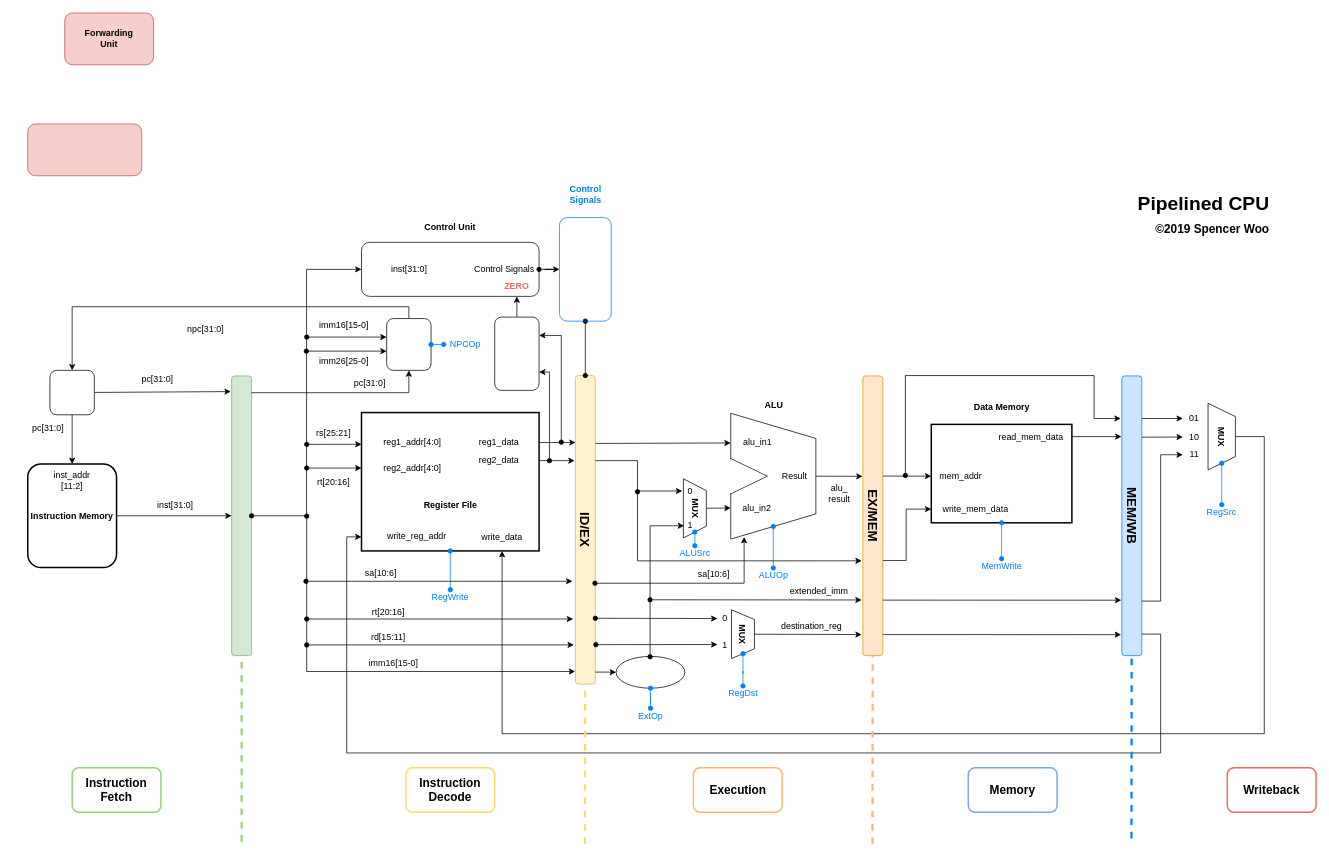
Image size: 1329x858. Some labels were removed from this diagram. The shapes that lost their labels are listed below. From the top down, each one's centre as x and y in pixels, then its label:
At point 84,149: "Hazard Control".
At point 585,269: "RegWrite ExtOp ALUSrc ALUOp MemWrite RegSrc RegDst NPCOp".
At point 408,344: "NPC".
At point 516,353: "Branch Judge".
At point 71,392: "PC".
At point 241,515: "IF/ID".
At point 650,672: "Extend".
